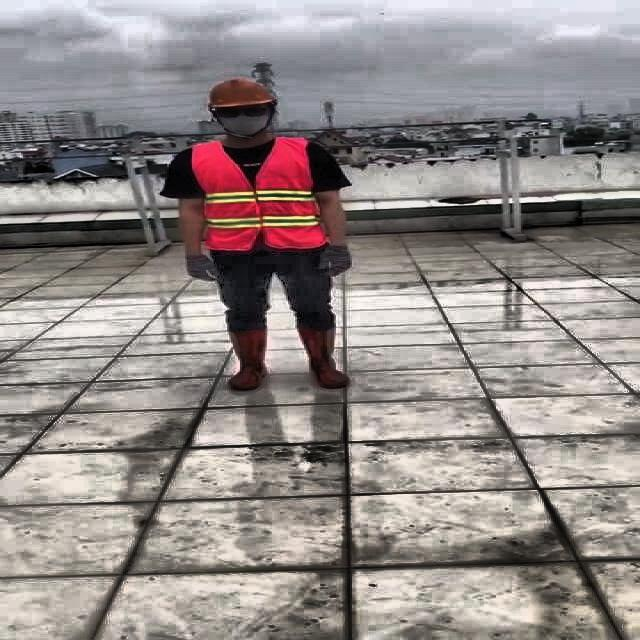safety_helmet: (202, 76, 278, 109)
safety_jacket: (188, 137, 326, 249)
